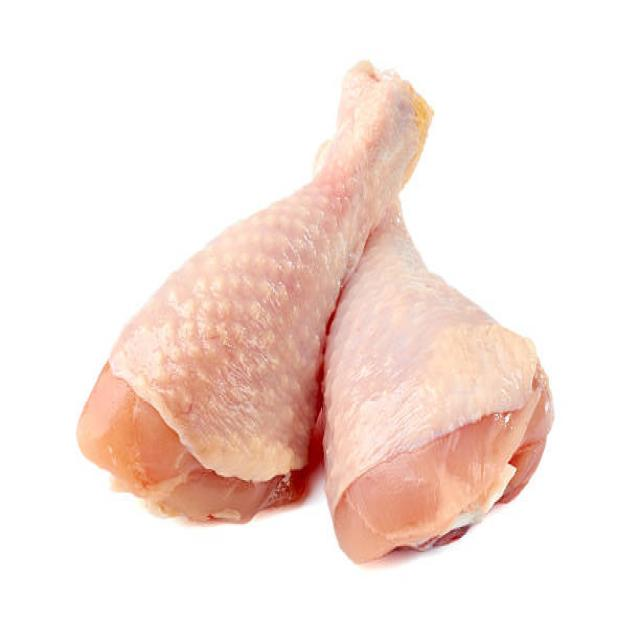Chicken: (82, 75, 406, 511), (326, 259, 555, 549)
